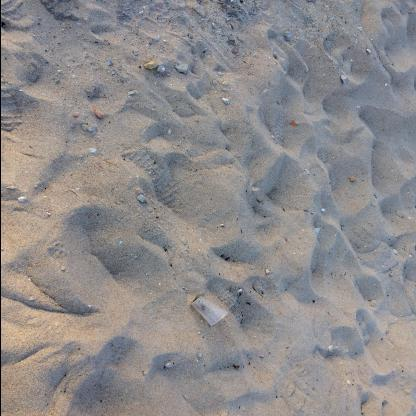plastik: (191, 297, 229, 327)
